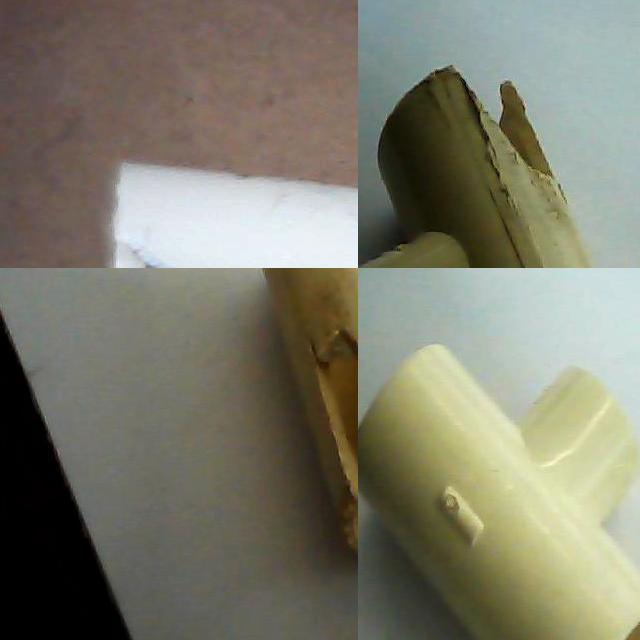Defective: (452, 66, 558, 185), (319, 324, 358, 492)
T Joint: (358, 344, 640, 640), (359, 67, 592, 268), (260, 268, 358, 556), (111, 162, 358, 268)
